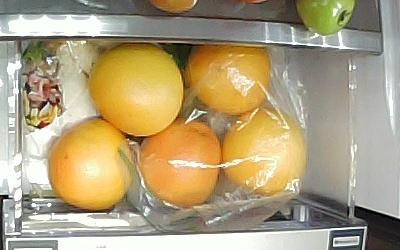grapefruit: (90, 43, 182, 137), (49, 118, 133, 211)
grapefruit_vinyl: (140, 117, 220, 208), (224, 107, 305, 195), (186, 45, 272, 114)
